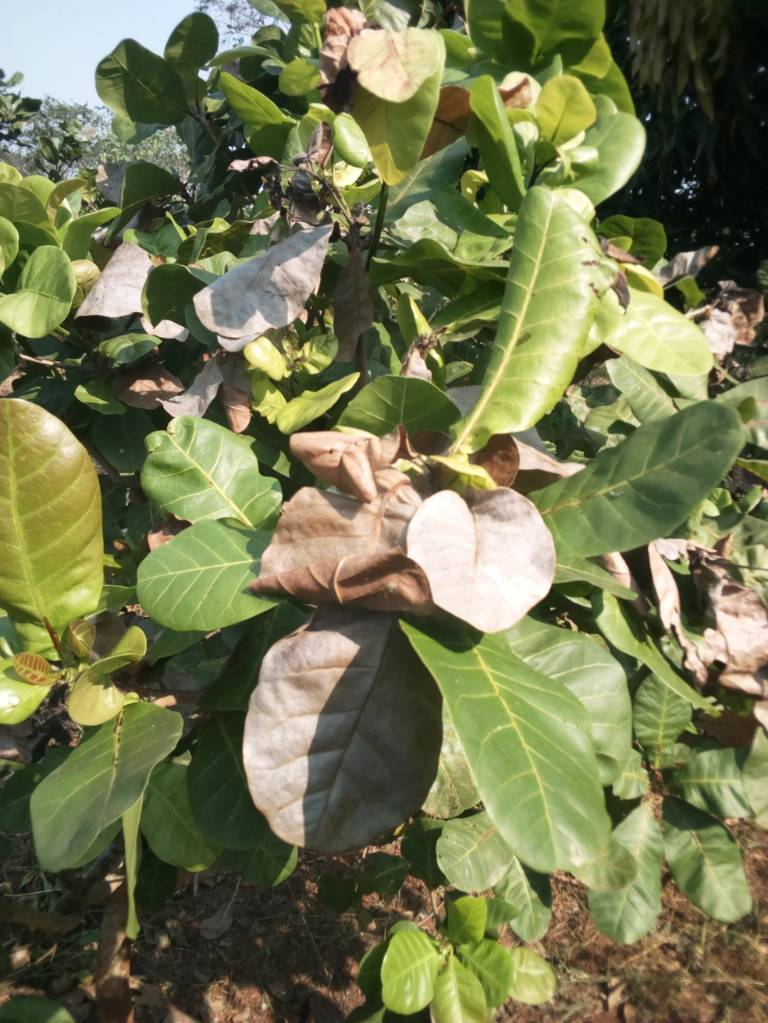Dessèchement des bourgeons: (242, 142, 378, 250)
